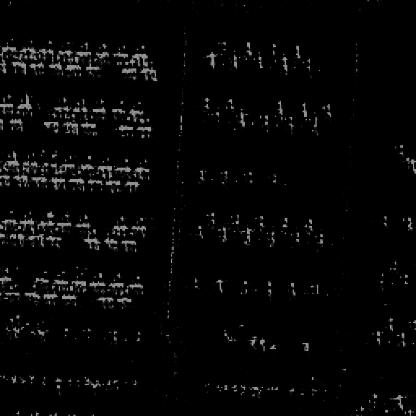airplane: (51, 96, 72, 120), (109, 99, 130, 122), (71, 96, 91, 120), (13, 91, 33, 114), (73, 213, 94, 234), (130, 44, 151, 65), (128, 102, 150, 122), (118, 63, 140, 83), (75, 154, 96, 174), (58, 288, 80, 307), (68, 268, 91, 286), (54, 42, 74, 62), (106, 270, 127, 289), (114, 156, 133, 177), (57, 154, 75, 176), (130, 218, 150, 237), (18, 42, 37, 62), (94, 41, 114, 60), (107, 216, 128, 234), (94, 292, 116, 309), (75, 41, 94, 60), (55, 211, 73, 231), (38, 210, 56, 230), (38, 156, 58, 174), (84, 60, 104, 78), (0, 39, 18, 59), (3, 148, 20, 169), (38, 39, 53, 62), (125, 270, 143, 289), (94, 158, 112, 177), (133, 158, 151, 177), (90, 268, 107, 288), (31, 270, 52, 286), (115, 124, 136, 140), (142, 65, 160, 83), (93, 98, 107, 121), (8, 58, 28, 74), (21, 153, 37, 172), (80, 122, 99, 138), (0, 266, 15, 286), (115, 42, 130, 62), (216, 39, 231, 59), (302, 216, 317, 236), (0, 211, 16, 229), (66, 177, 84, 193), (65, 58, 81, 76), (203, 50, 219, 68), (81, 236, 101, 250), (374, 271, 388, 291), (117, 289, 132, 307), (120, 237, 138, 252), (6, 117, 24, 132), (40, 120, 58, 135), (62, 120, 80, 135), (284, 278, 298, 297), (11, 174, 31, 187), (18, 213, 34, 229), (250, 54, 266, 70), (239, 169, 255, 185), (54, 266, 68, 284), (100, 236, 118, 250), (104, 179, 122, 193), (86, 178, 104, 192), (302, 55, 316, 73), (308, 112, 322, 130), (263, 171, 281, 185), (252, 213, 266, 231), (395, 330, 409, 348), (30, 60, 46, 75), (276, 57, 291, 73), (221, 96, 236, 112), (263, 231, 278, 247), (390, 143, 406, 158), (48, 177, 66, 190), (0, 97, 13, 115), (210, 107, 223, 125), (273, 99, 286, 117), (44, 232, 63, 244), (279, 213, 291, 232), (263, 278, 275, 297), (256, 112, 270, 128), (192, 224, 206, 240), (304, 280, 320, 294), (388, 257, 402, 273), (370, 328, 384, 344), (25, 234, 42, 247), (291, 42, 302, 62), (228, 52, 240, 70), (242, 39, 254, 57), (268, 42, 280, 60), (296, 100, 308, 118), (366, 392, 378, 410), (228, 211, 242, 226), (234, 106, 245, 125), (41, 291, 57, 304), (138, 125, 154, 138), (47, 60, 63, 73), (216, 226, 229, 242), (239, 228, 252, 244), (291, 228, 304, 244), (384, 315, 396, 332), (392, 392, 403, 410), (318, 102, 332, 116), (31, 176, 47, 188), (198, 96, 210, 112), (203, 212, 219, 224), (211, 275, 223, 291), (400, 272, 412, 288), (124, 179, 141, 190), (218, 168, 228, 186), (404, 158, 414, 176), (195, 166, 206, 182), (3, 288, 20, 298), (7, 232, 21, 244), (402, 215, 414, 229), (0, 173, 11, 188), (21, 289, 37, 299), (284, 114, 294, 130), (239, 278, 249, 294), (380, 211, 390, 226), (188, 274, 198, 288), (314, 232, 324, 245), (73, 377, 83, 388), (81, 375, 91, 385), (91, 378, 101, 388), (0, 372, 8, 384), (10, 372, 18, 384), (18, 372, 26, 384), (54, 376, 62, 388), (65, 377, 73, 388), (26, 374, 34, 384), (104, 378, 112, 388), (112, 379, 119, 390), (379, 408, 390, 414), (39, 375, 45, 385)
